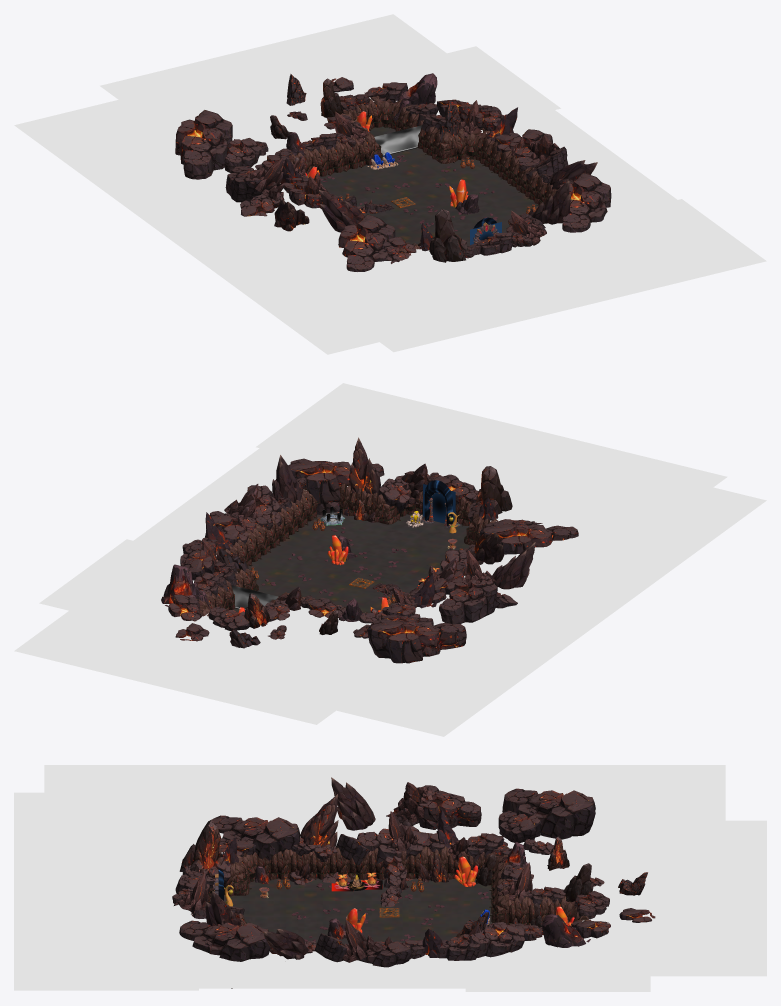
Rendered from LevelMap_1070108.glb.
The picture shows the model from 3 angles, top to bottom: view 1: azimuth 30°, elevation 25°; view 2: azimuth 150°, elevation 25°; view 3: azimuth 270°, elevation 25°; orthographic projection. The views are drawn at different scales.
Parts seen in each view (by area): view 1: EnvCavern_Detail__Lava_1__u2589, EnvCavern_Detail__Lava_7__u2809, EnvCavern_Detail__Lava_4__u2371, EnvCavern_Detail__Lava__u2429, EnvCavern_Detail__Lava_3__u2383, LevelMap_1070108_Terrain_1__u3670, LevelMap_1070108_Terrain__u2564, EnvCavern_Detail__Lava_6__u2755, EnvCavern_Detail__Lava_5__u3570, EnvCavern_Detail__Lava_2__u3198, EnvCavern_Detail__Rock___3__u2439, EnvCavern_Detail__Rock___3__u1945 (+18 smaller); view 2: EnvCavern_Detail__Lava_1__u2589, EnvCavern_Detail__Lava_4__u2371, EnvCavern_Detail__Lava_7__u2809, LevelMap_1070108_Terrain__u2564, EnvCavern_Detail__Lava__u2429, EnvCavern_Detail__Lava_6__u2755, EnvCavern_Detail__Lava_3__u2383, EnvCavern_Detail__Lava_2__u3198, EnvCavern_Detail__Lava_5__u3570, EnvCavern_Detail__Rock___3__u2439, LevelMap_1070108_Terrain_1__u3670, EnvCavern_Detail__Rock___3__u2583 (+19 smaller); view 3: EnvCavern_Detail__Lava_1__u2589, EnvCavern_Detail__Lava_7__u2809, EnvCavern_Detail__Lava_4__u2371, EnvCavern_Detail__Lava__u2429, EnvCavern_Detail__Lava_3__u2383, LevelMap_1070108_Terrain__u2564, EnvCavern_Detail__Lava_6__u2755, EnvCavern_Detail__Lava_2__u3198, LevelMap_1070108_Terrain_1__u3670, EnvCavern_Detail__Lava_5__u3570, EnvCavern_Detail__Rock___3__u2439, EnvCavern_Detail__Rock___3__u2583 (+40 smaller).
Part boxes in pixels (x1,y1,x2,y2): EnvCavern_Detail__Lava_1__u2589: [14, 86, 488, 354]; EnvCavern_Detail__Lava_7__u2809: [309, 199, 766, 352]; EnvCavern_Detail__Lava_4__u2371: [100, 14, 477, 141]; EnvCavern_Detail__Lava__u2429: [415, 62, 695, 232]; EnvCavern_Detail__Lava_3__u2383: [360, 46, 560, 119]; LevelMap_1070108_Terrain_1__u3670: [319, 126, 496, 206]; LevelMap_1070108_Terrain__u2564: [363, 174, 538, 246]; EnvCavern_Detail__Lava_6__u2755: [318, 246, 516, 332]; EnvCavern_Detail__Lava_5__u3570: [540, 196, 718, 283]; EnvCavern_Detail__Lava_2__u3198: [174, 75, 364, 160]; EnvCavern_Detail__Rock___3__u2439: [175, 110, 232, 179]; EnvCavern_Detail__Rock___3__u1945: [338, 214, 395, 271]; EnvCavern_Detail__Lava_1__u2589: [279, 459, 766, 736]; EnvCavern_Detail__Lava_4__u2371: [14, 587, 398, 724]; EnvCavern_Detail__Lava_7__u2809: [256, 383, 727, 535]; LevelMap_1070108_Terrain__u2564: [252, 513, 469, 596]; EnvCavern_Detail__Lava__u2429: [71, 434, 352, 610]; EnvCavern_Detail__Lava_6__u2755: [490, 454, 675, 546]; EnvCavern_Detail__Lava_3__u2383: [39, 539, 237, 632]; EnvCavern_Detail__Lava_2__u3198: [200, 606, 371, 687]; EnvCavern_Detail__Lava_5__u3570: [270, 404, 473, 486]; EnvCavern_Detail__Rock___3__u2439: [367, 618, 466, 663]; LevelMap_1070108_Terrain_1__u3670: [233, 563, 393, 613]; EnvCavern_Detail__Rock___3__u2583: [288, 458, 384, 514]; EnvCavern_Detail__Lava_1__u2589: [44, 765, 725, 851]; EnvCavern_Detail__Lava_7__u2809: [14, 792, 198, 990]; EnvCavern_Detail__Lava_4__u2371: [582, 820, 766, 976]; EnvCavern_Detail__Lava__u2429: [159, 947, 610, 988]; EnvCavern_Detail__Lava_3__u2383: [465, 930, 650, 991]; LevelMap_1070108_Terrain__u2564: [210, 878, 402, 945]; EnvCavern_Detail__Lava_6__u2755: [51, 807, 235, 868]; EnvCavern_Detail__Lava_2__u3198: [504, 839, 689, 900]; LevelMap_1070108_Terrain_1__u3670: [402, 878, 500, 942]; EnvCavern_Detail__Lava_5__u3570: [51, 912, 235, 974]; EnvCavern_Detail__Rock___3__u2439: [502, 788, 595, 839]; EnvCavern_Detail__Rock___3__u2583: [179, 920, 270, 988].
Bounding box in the file's own units: 54.65 × 9.95 × 76.69.
Materials: 39 (38 with a texture image).
